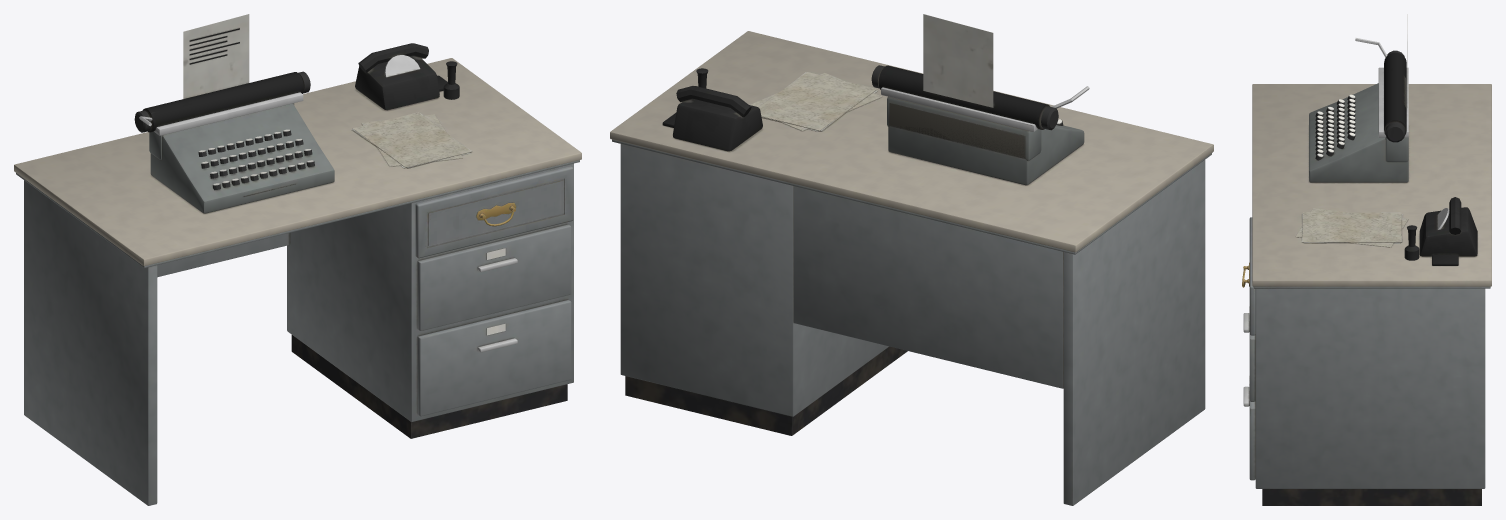
File: mesa_maquina_escrever.glb
The picture shows the model from 3 angles, left to right: view 1: azimuth 30°, elevation 25°; view 2: azimuth 150°, elevation 25°; view 3: azimuth 270°, elevation 25°; orthographic projection. The views are drawn at different scales.
Parts seen in each view (by area): view 1: mesa, gaveta_1; view 2: mesa; view 3: mesa, gaveta_1.
Part boxes in pixels (x1=…): mesa: x1=14, y1=14, x2=581, y2=505; gaveta_1: x1=415, y1=166, x2=573, y2=258; mesa: x1=610, y1=14, x2=1213, y2=505; mesa: x1=1243, y1=14, x2=1491, y2=505; gaveta_1: x1=1242, y1=217, x2=1255, y2=335.
Size of the model in its own units: 1.4 by 1.18 by 0.7509.
Materials: 2 (2 with a texture image).
